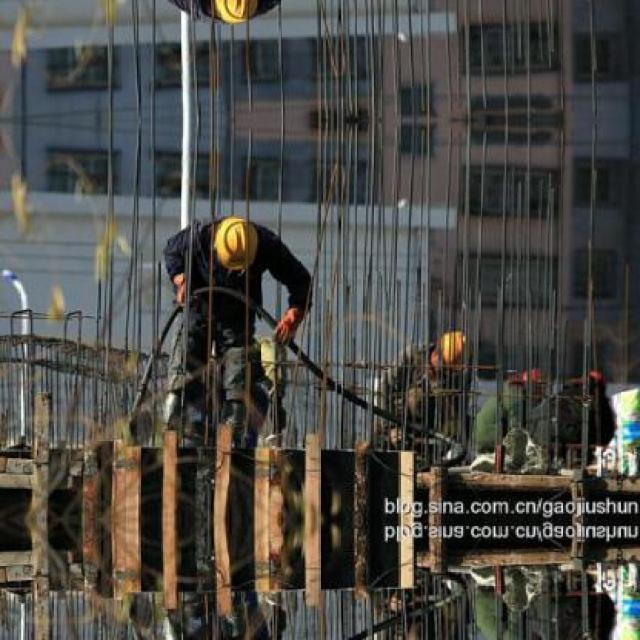helmet: (211, 214, 257, 269), (431, 326, 471, 376), (515, 364, 550, 402), (211, 0, 258, 28)
